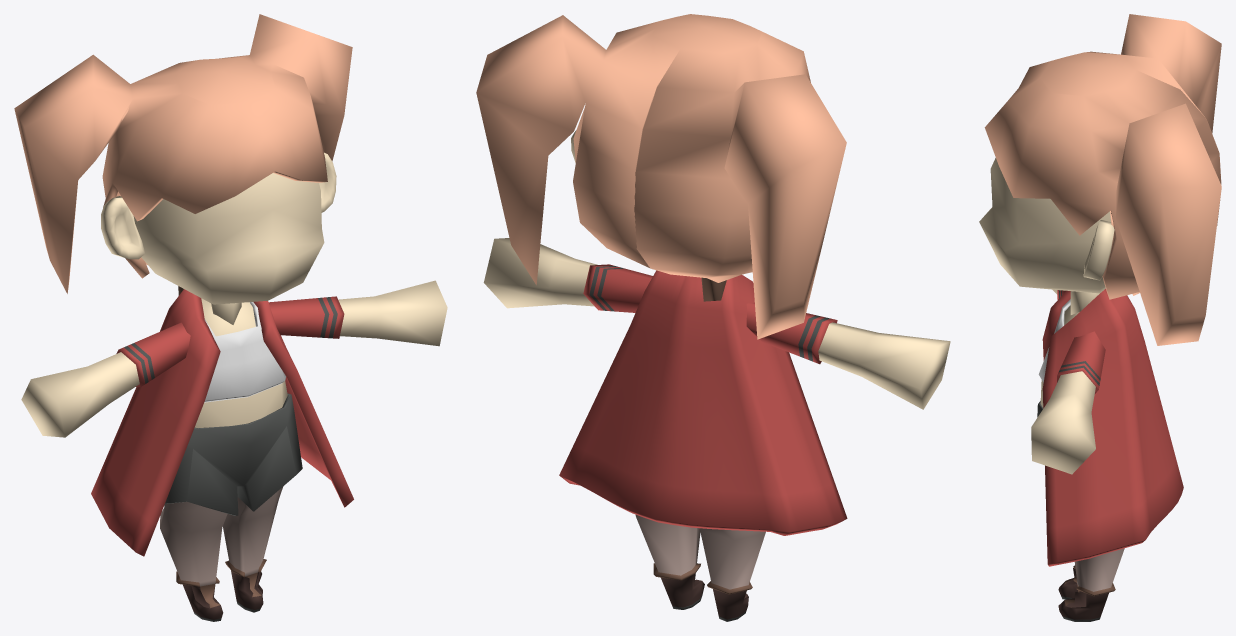
The model's file is Bat.fbx.
The picture shows the model from 3 angles, left to right: view 1: azimuth 30°, elevation 25°; view 2: azimuth 150°, elevation 25°; view 3: azimuth 270°, elevation 25°; orthographic projection. The views are drawn at different scales.
Visible parts, largest first — view 1: Hair, Coat, Head, Arms, Shorts, Legs, Tshirt, Body, Ears; view 2: Hair, Coat, Arms, Legs; view 3: Hair, Coat, Head, Arms, Legs, Ears, Neck.
Part boxes in pixels (x1,y1,x2,y2): Hair: (14, 14, 352, 293); Coat: (91, 289, 353, 556); Head: (133, 173, 324, 304); Arms: (21, 280, 447, 437); Shorts: (165, 393, 302, 515); Legs: (160, 486, 283, 621); Tshirt: (204, 302, 286, 402); Body: (194, 298, 287, 428); Ears: (101, 152, 336, 259); Hair: (476, 14, 846, 339); Coat: (559, 270, 847, 535); Arms: (483, 238, 950, 409); Legs: (635, 515, 765, 621); Hair: (984, 14, 1221, 345); Coat: (1042, 289, 1183, 566); Head: (979, 158, 1110, 293); Arms: (1031, 289, 1105, 474); Legs: (1058, 548, 1124, 621); Ears: (1083, 220, 1114, 280); Neck: (1070, 291, 1099, 314).
Size of the model in its own units: 252 by 320 by 129.
